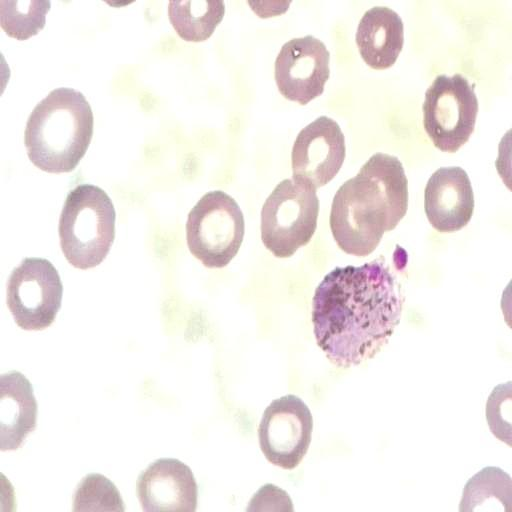Infected: (313, 260, 400, 370)
Uninfected: (23, 90, 91, 174), (330, 172, 390, 255), (56, 182, 112, 267), (261, 176, 319, 256), (184, 189, 242, 269), (424, 75, 480, 155), (351, 153, 407, 230), (3, 255, 60, 330), (289, 113, 343, 191), (257, 392, 310, 468), (274, 38, 331, 105), (423, 163, 474, 233), (136, 456, 198, 512), (354, 5, 402, 68)
